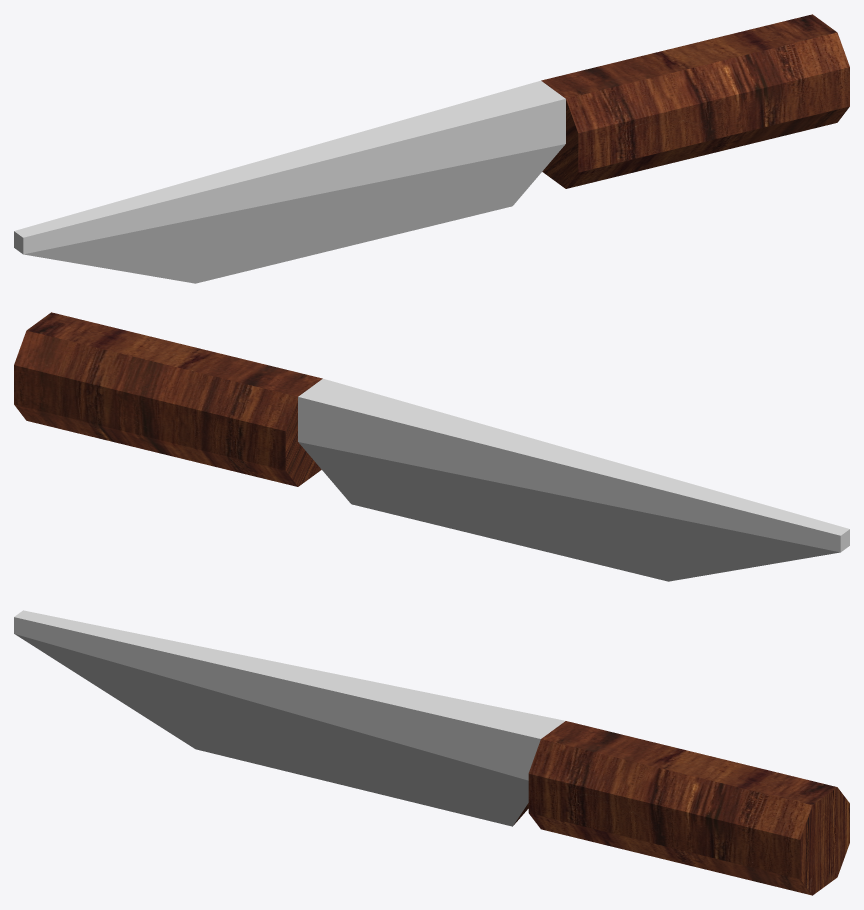
File: Pisau.fbx
The picture shows the model from 3 angles, top to bottom: view 1: azimuth 30°, elevation 25°; view 2: azimuth 150°, elevation 25°; view 3: azimuth 330°, elevation 25°; orthographic projection.
Parts seen in each view (by area): view 1: Pisau; view 2: Pisau; view 3: Pisau.
Boxes of the visible parts, x1,y1,x2,y2 form: Pisau: (14, 14, 849, 283); Pisau: (14, 312, 849, 581); Pisau: (14, 610, 849, 895).
Bounding box in the file's own units: 187 × 23.63 × 20.
